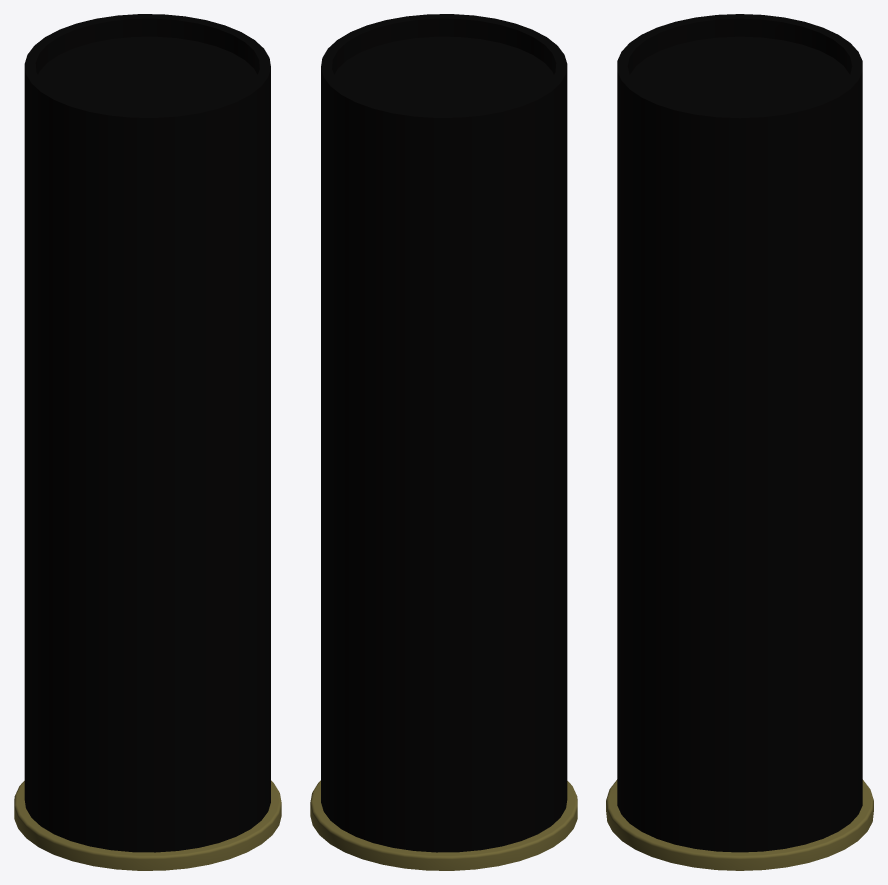
3 views of the same model, side by side, from view 1: azimuth 30°, elevation 25°; view 2: azimuth 150°, elevation 25°; view 3: azimuth 270°, elevation 25° (orthographic).
Parts seen in each view (by area): view 1: body, foot; view 2: body, foot; view 3: body, foot.
Part boxes in pixels (x1,y1,x2,y2): body: [24, 14, 270, 852]; foot: [14, 780, 281, 870]; body: [321, 14, 567, 852]; foot: [310, 780, 577, 870]; body: [617, 14, 862, 852]; foot: [606, 779, 873, 870].
Size of the model in its own units: 0.0243 by 0.075 by 0.0243.
